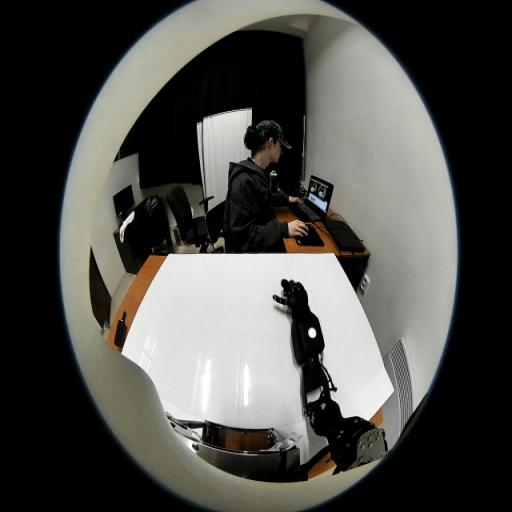RightHand: (288, 290, 308, 305)
